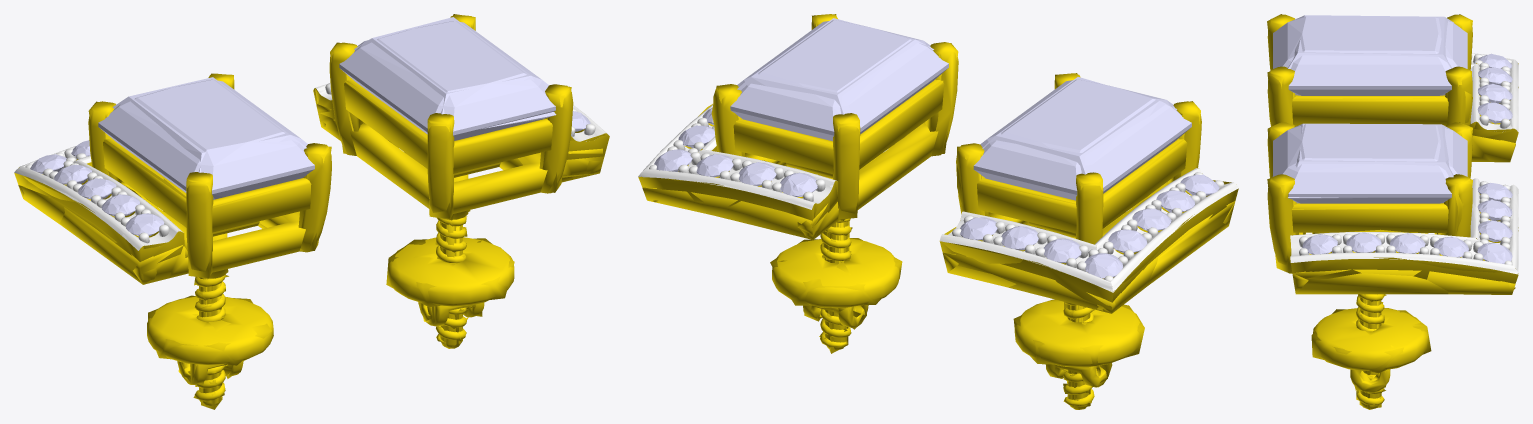
The picture shows the model from 3 angles, left to right: view 1: azimuth 30°, elevation 25°; view 2: azimuth 150°, elevation 25°; view 3: azimuth 270°, elevation 25°; orthographic projection. The views are drawn at different scales.
Parts seen in each view (by area): view 1: highPolyMesh, lowPolyMesh; view 2: highPolyMesh, lowPolyMesh; view 3: highPolyMesh, lowPolyMesh.
Part boxes in pixels (left/top/right/bottom): highPolyMesh: left=14, top=14, right=609, bottom=405; lowPolyMesh: left=14, top=14, right=608, bottom=409; highPolyMesh: left=638, top=14, right=1238, bottom=409; lowPolyMesh: left=638, top=14, right=1238, bottom=408; highPolyMesh: left=1267, top=14, right=1518, bottom=409; lowPolyMesh: left=1267, top=14, right=1518, bottom=408.
Bounding box in the file's own units: 0.0192 × 0.0114 × 0.00971.
